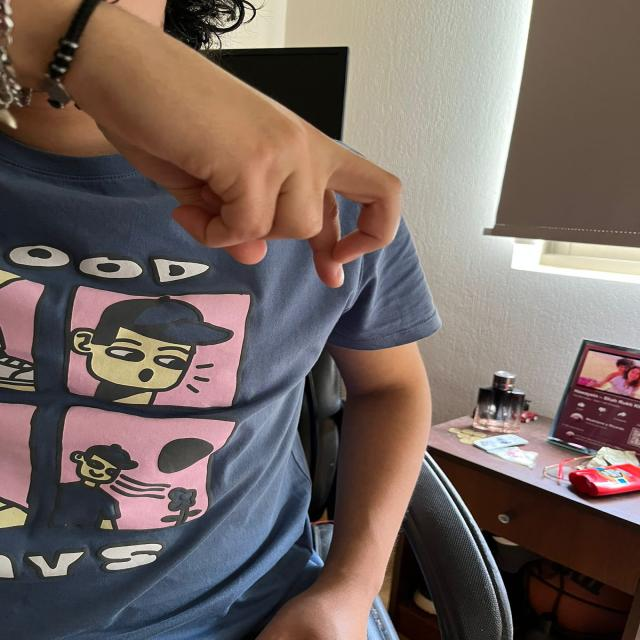P: (53, 7, 412, 297)
